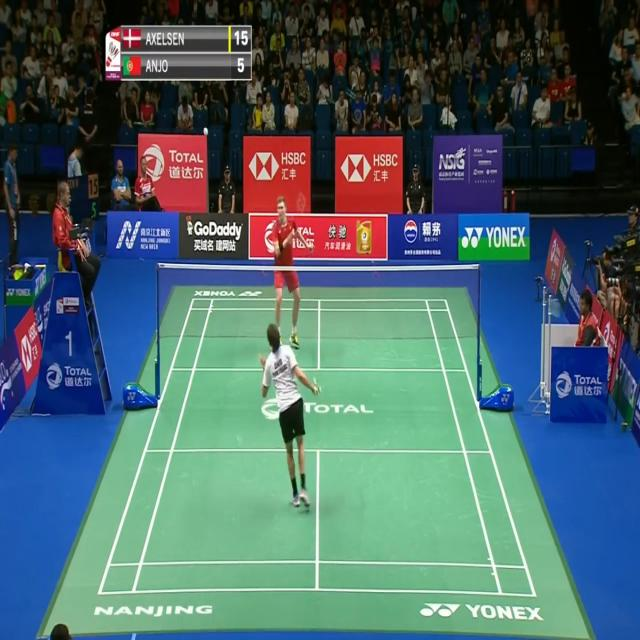Player1: (256, 312, 324, 526)
Player2: (268, 189, 309, 354)
